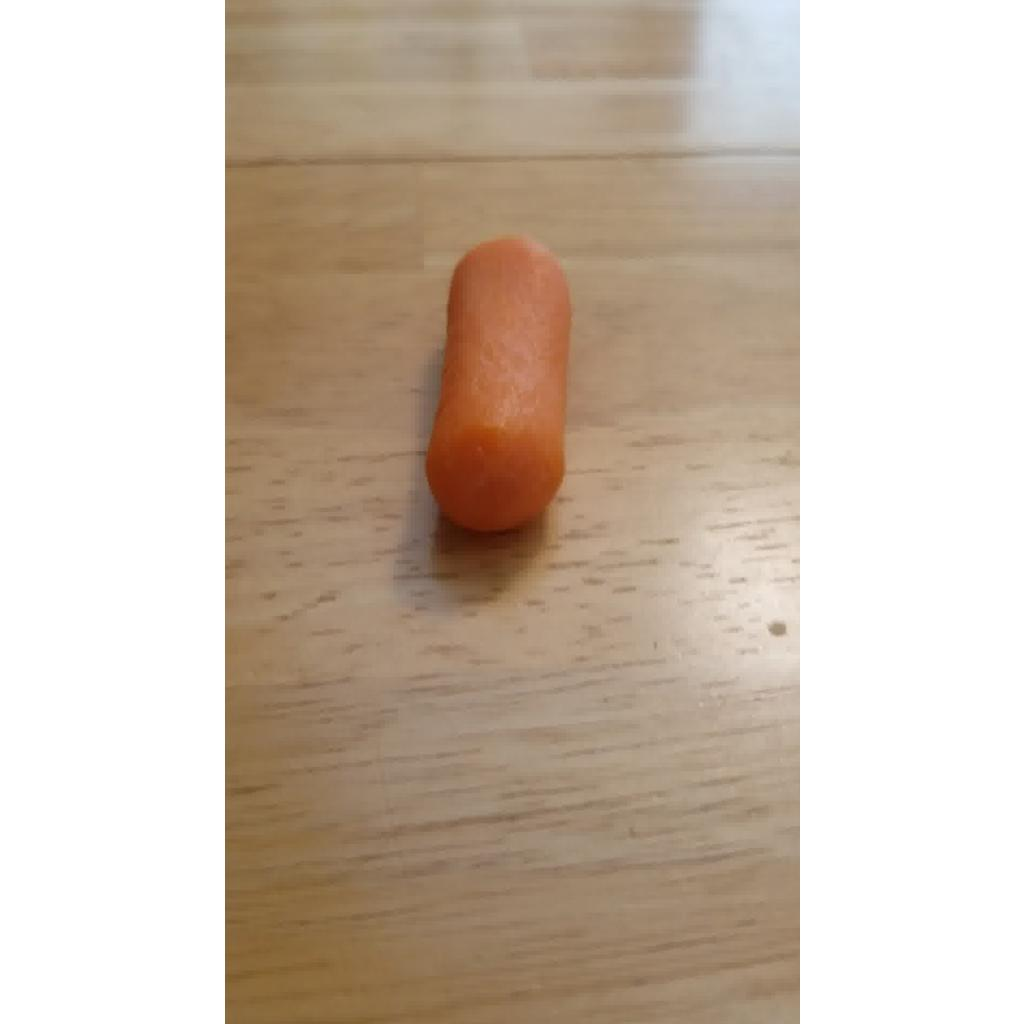carrot: (426, 238, 570, 530)
